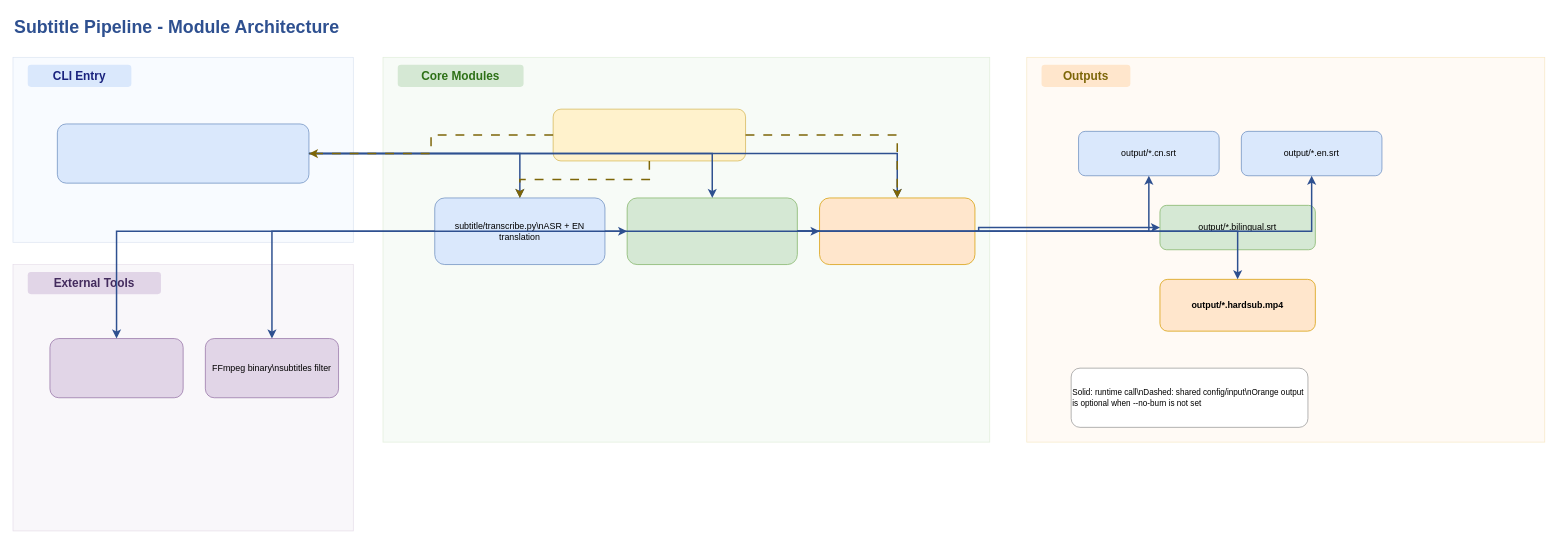
Some shapes in this 1558 by 544 pixel diagram are drawn without their labels. Each missing label, with the box of its shape:
auto_subtitle.py\nArgument parsing + orchestration: (57, 123, 309, 183)
config.py\nModel size / device / subtitle style: (552, 108, 746, 161)
faster-whisper\nWhisperModel: (49, 338, 183, 398)
subtitle/embed.py\nHard burn / mux subtitle: (819, 197, 975, 265)
subtitle/srt.py\nSRT writing + bilingual merge: (626, 197, 797, 265)
